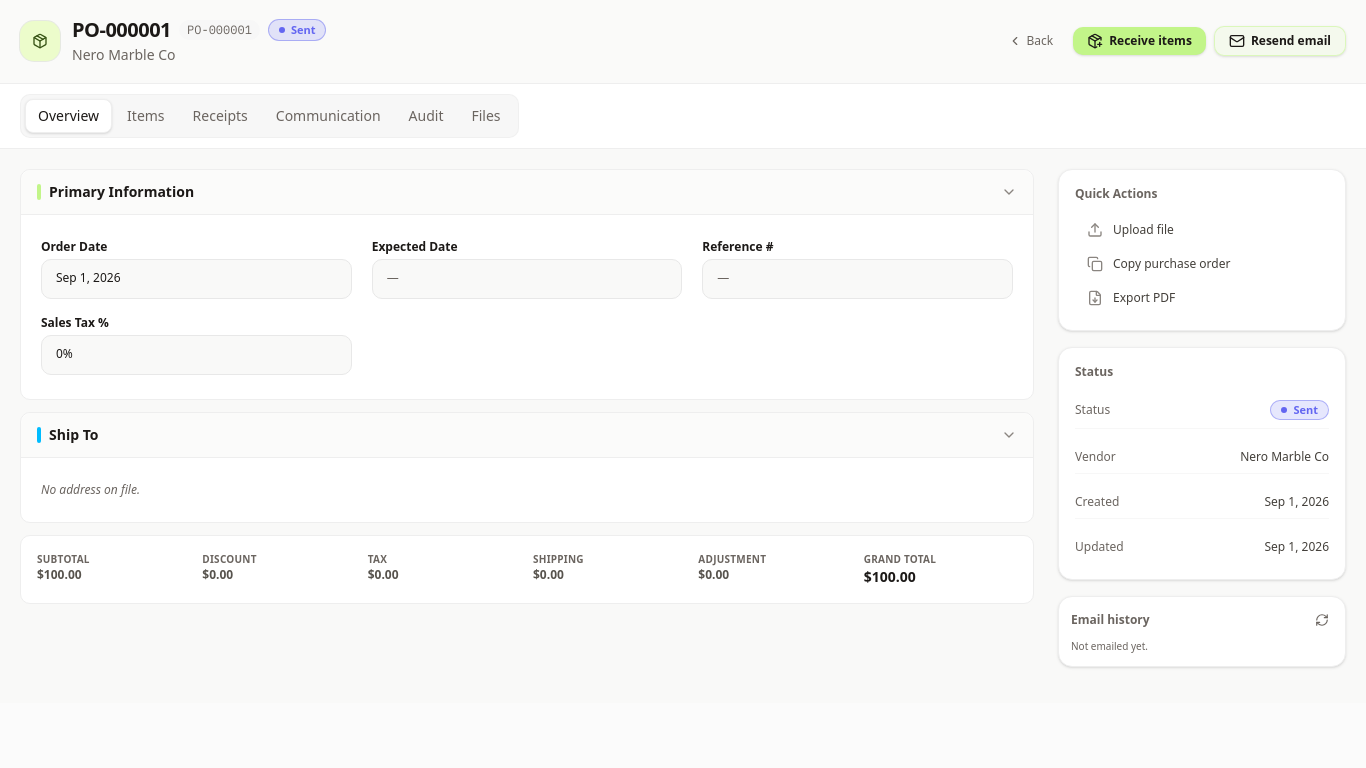
Test: PurchaseOrderDetailPage — Items tab units › names each line's unit
The image size is (1366, 768).
Click the button "Items".
click(146, 116)  # box [114, 99, 178, 133]
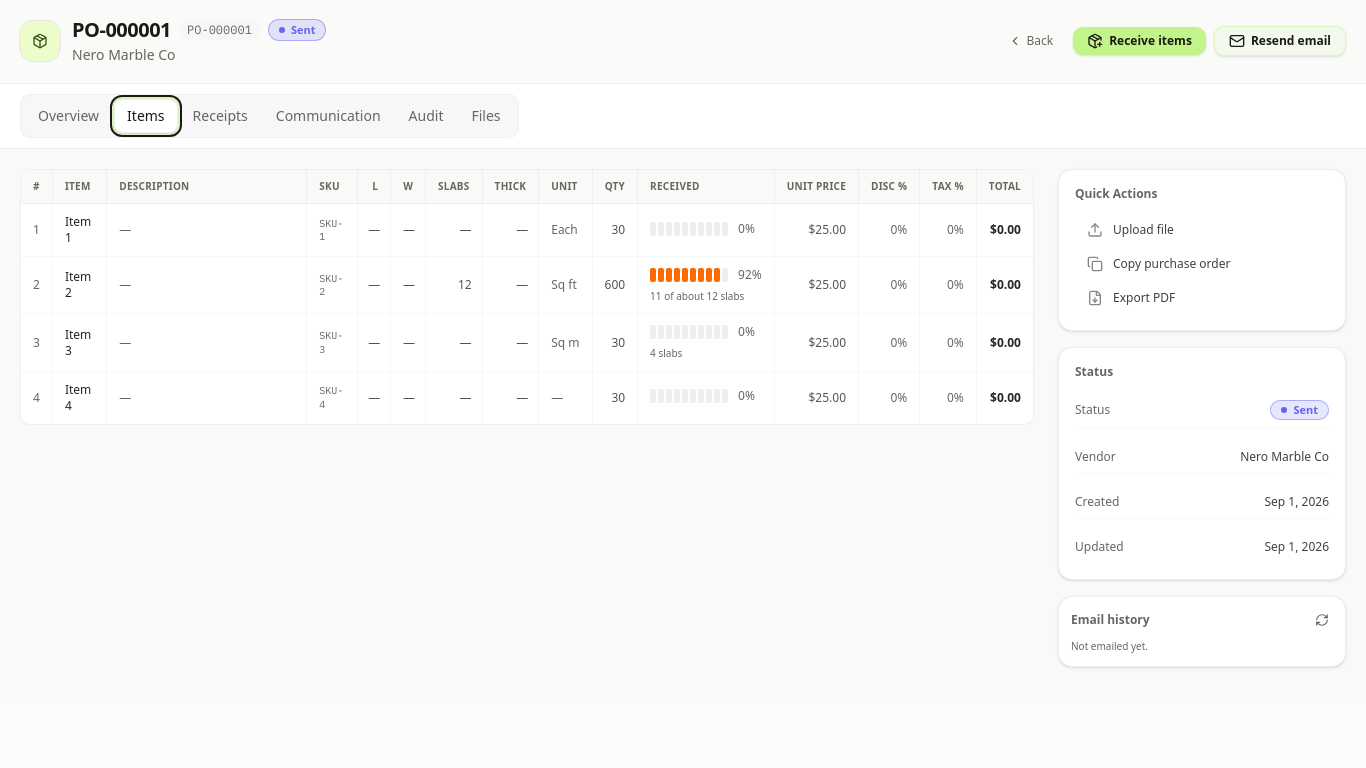
Check: the text "Each" is shown, box [539, 204, 592, 257]
Check: the text "Sq ft" is shown, box [539, 257, 592, 314]
Check: the text "Sq m" is shown, box [539, 314, 592, 371]
